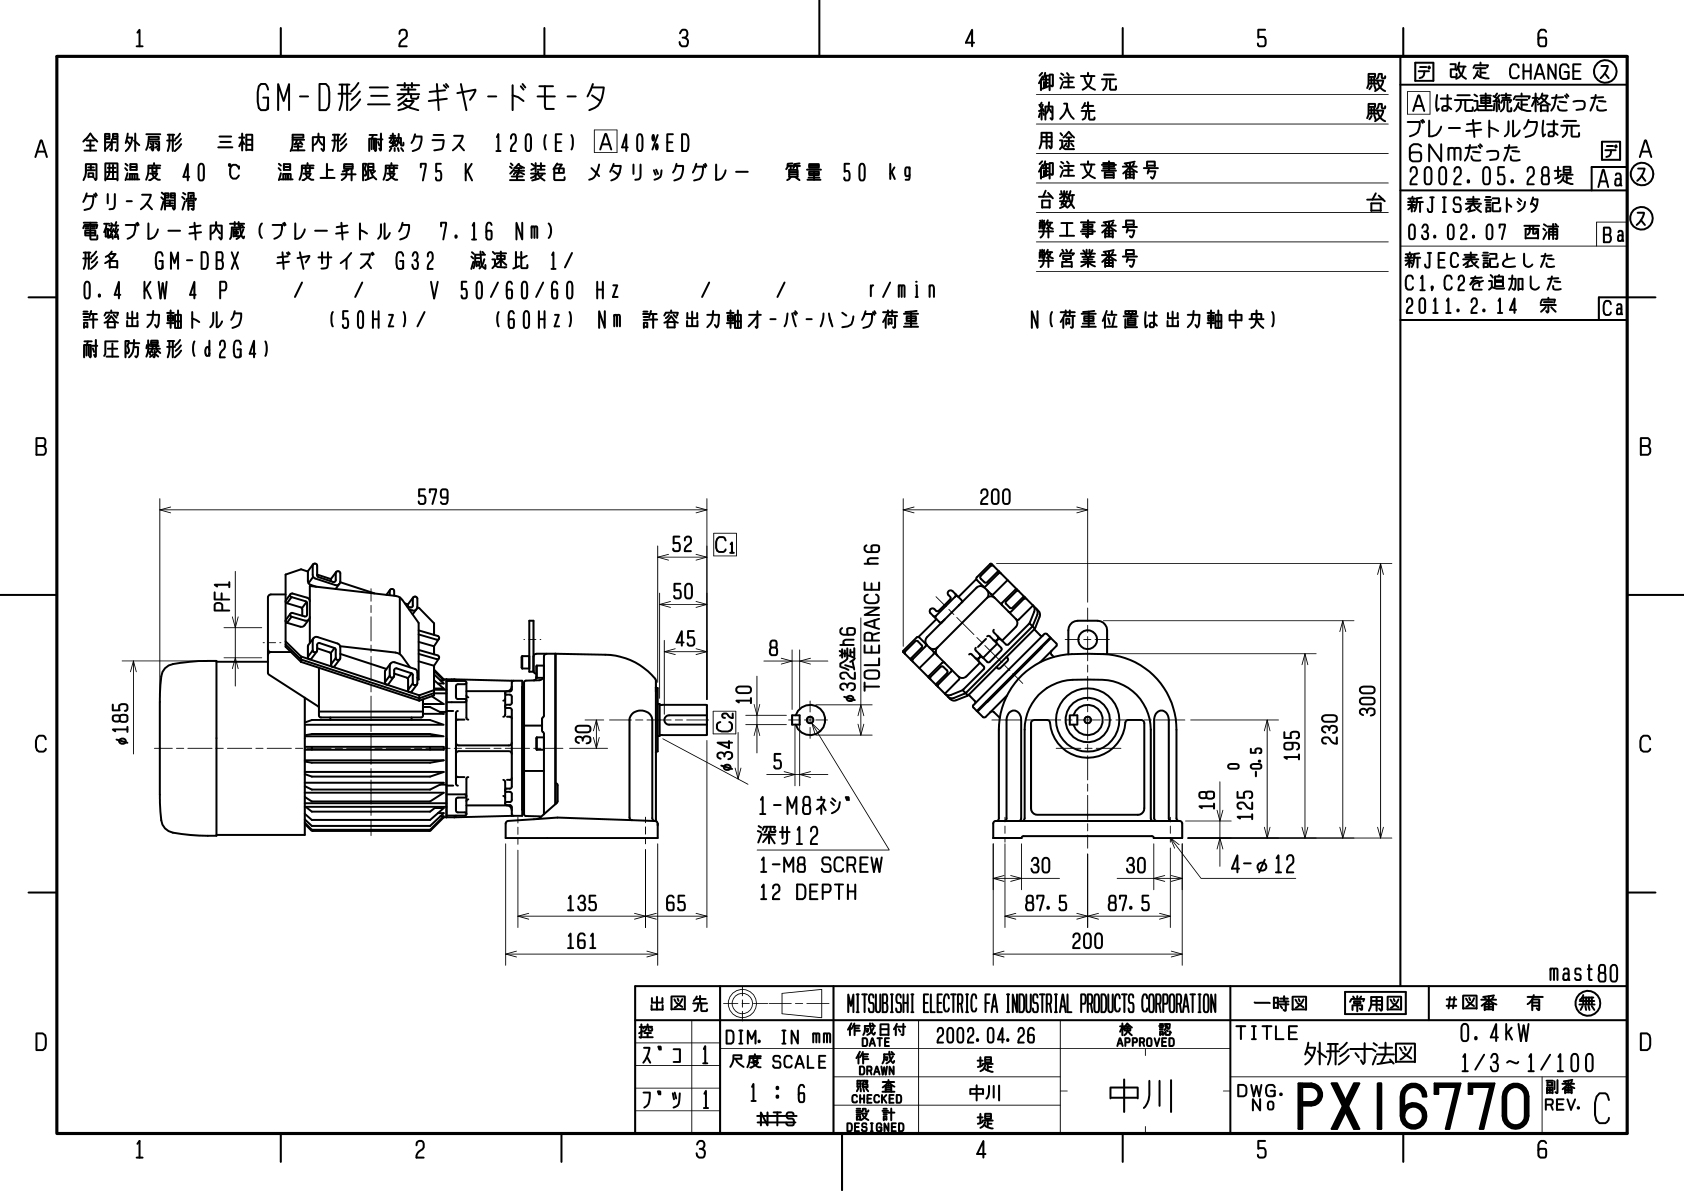GM_D_耐圧屋内_三相_脚: (17, 10, 1684, 1191)
